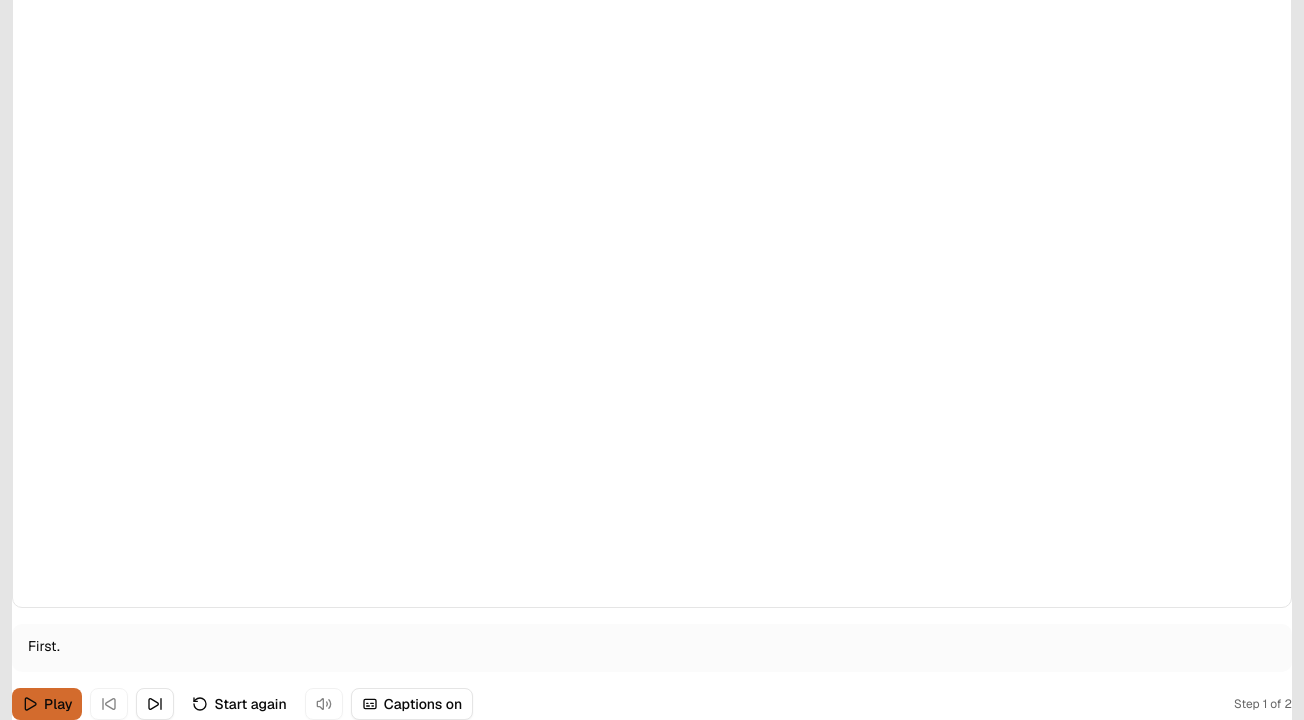
Test case: the player and its controls, together › rewinds to the first step when the primary button is pressed at the end
(page scrolled)
Click the button named "Next step" at (155,704), box 136,688 -> 174,719
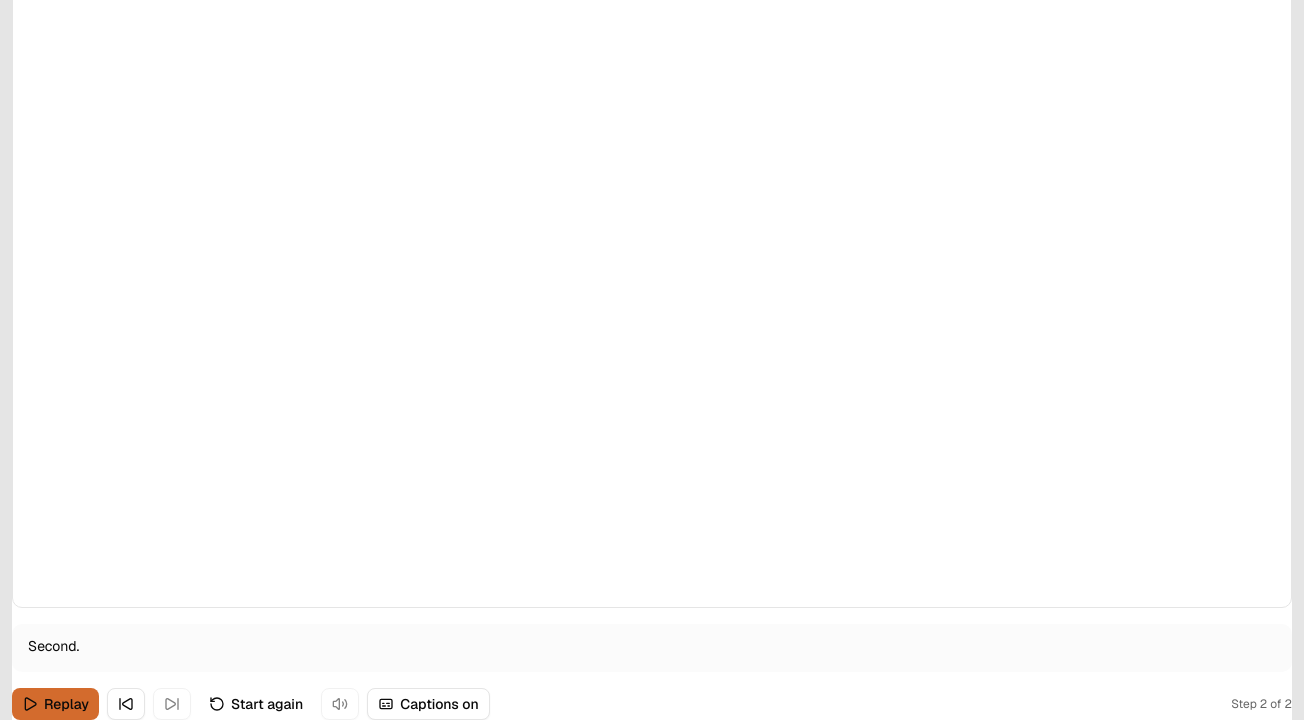
Check: the text "Step 2 of 2" is shown, box 1231,696 -> 1292,712
Click the button "Replay" at (55,704), box 12,688 -> 99,719
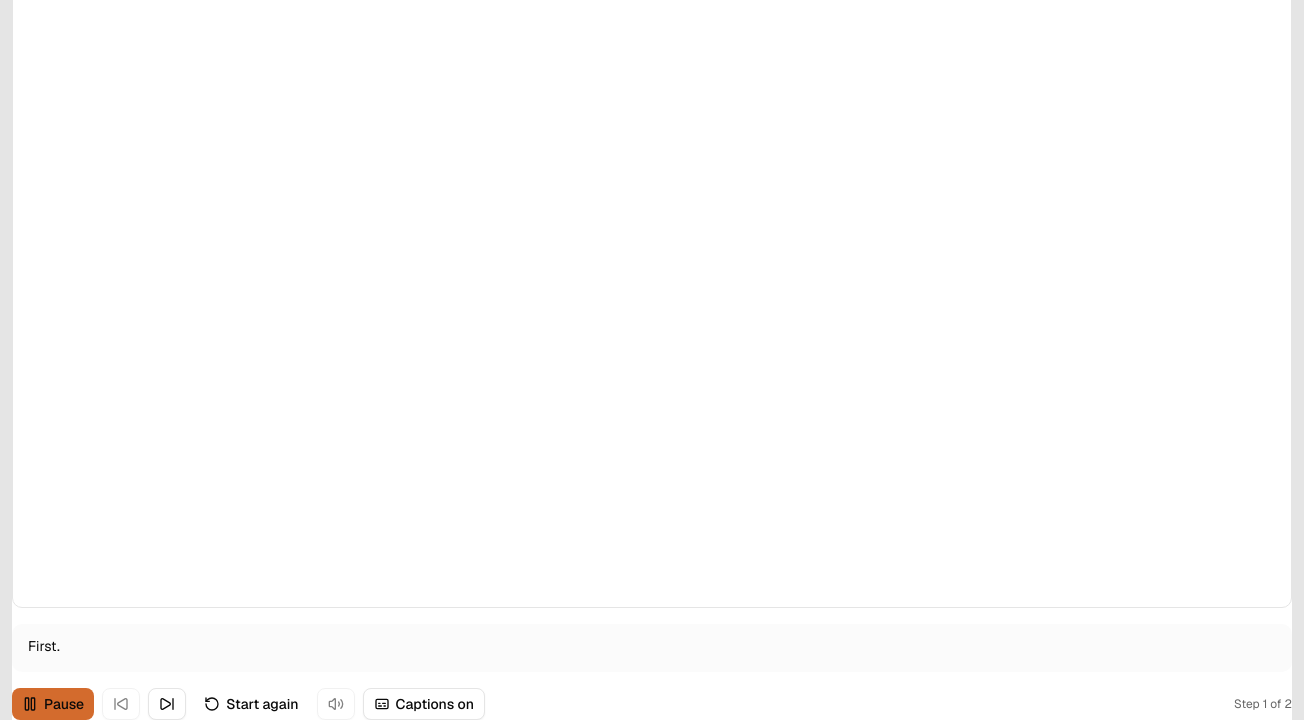
Check: the text "Step 1 of 2" is shown, box 1234,696 -> 1292,712
Check: the button "Pause" is shown, box 12,688 -> 94,719
